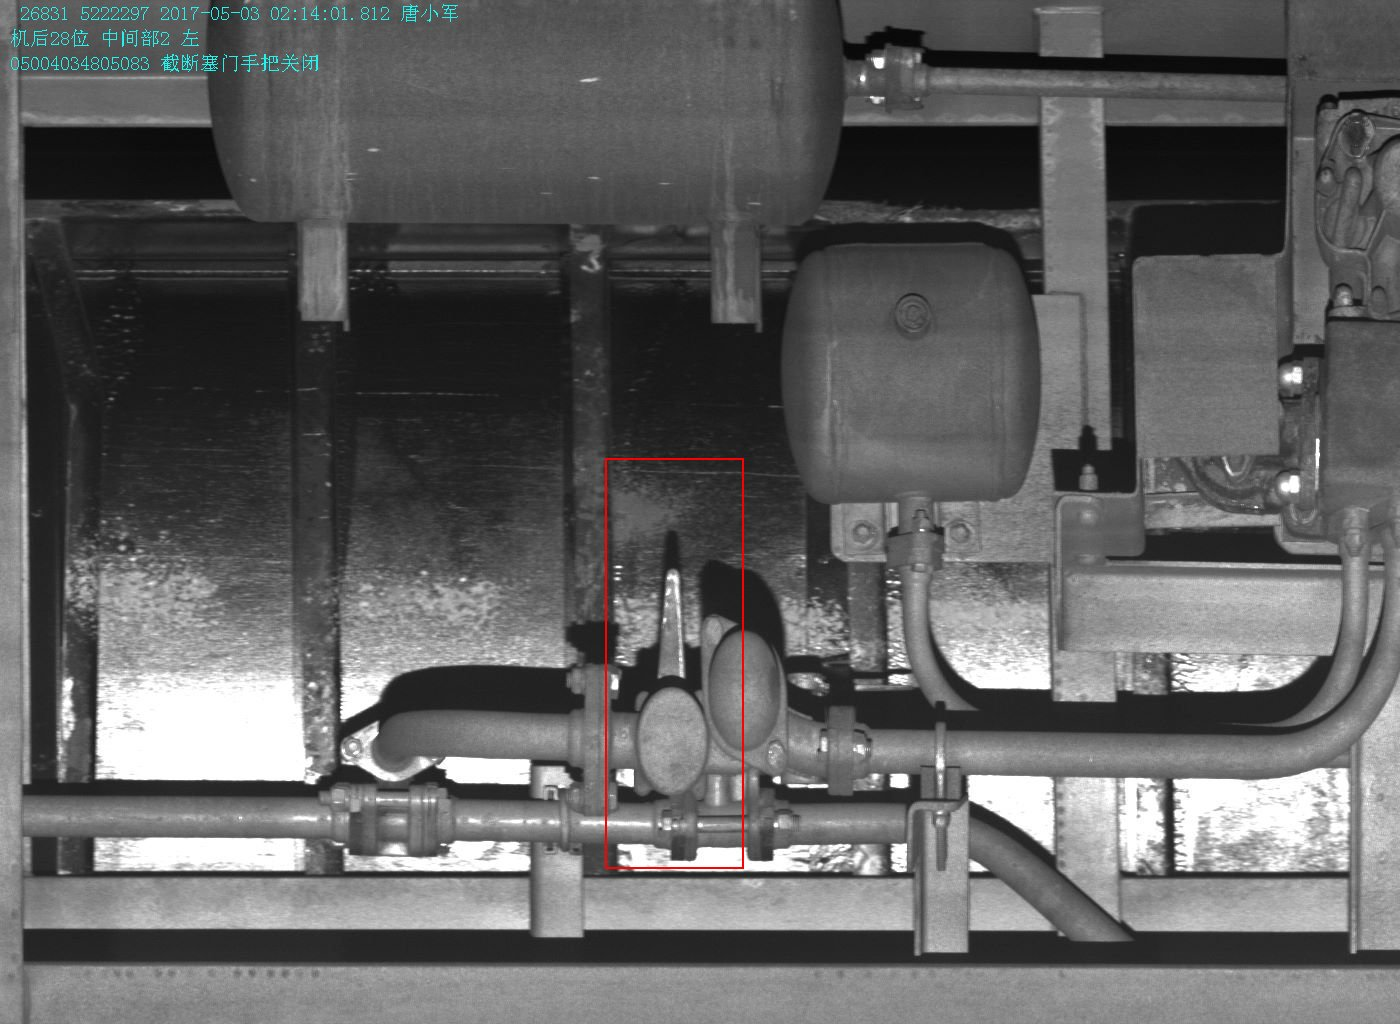truncated plug door handle: (636, 567, 710, 797)
